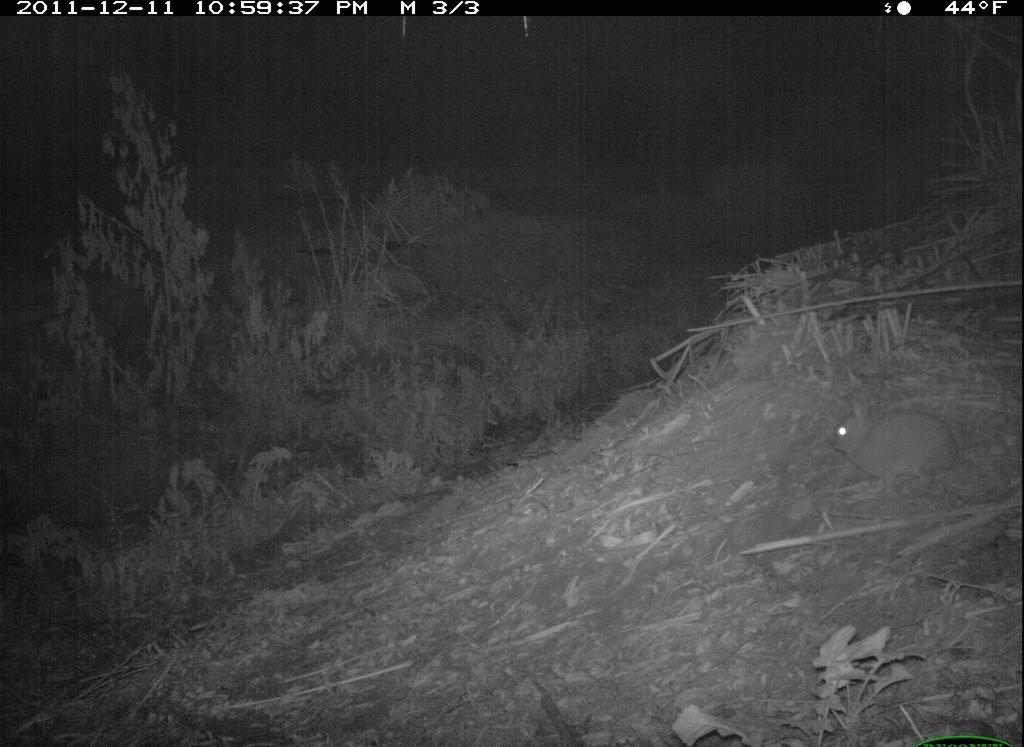rabbit: (829, 381, 972, 507)
